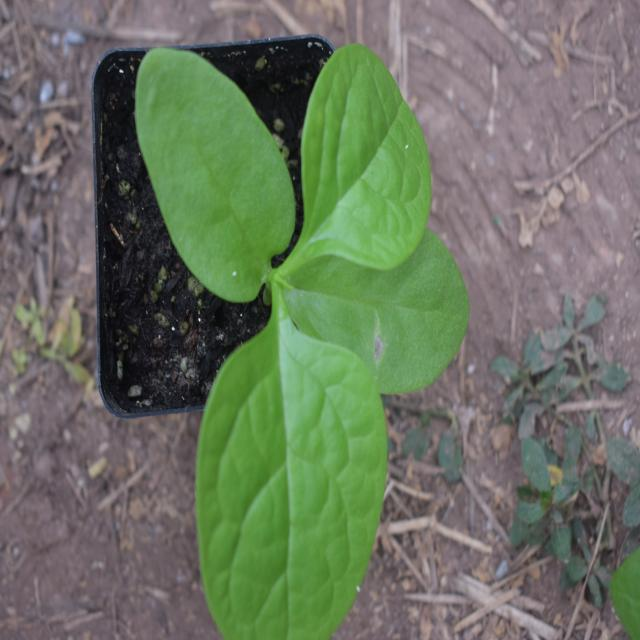Ceylon spinach: (130, 32, 464, 631)
